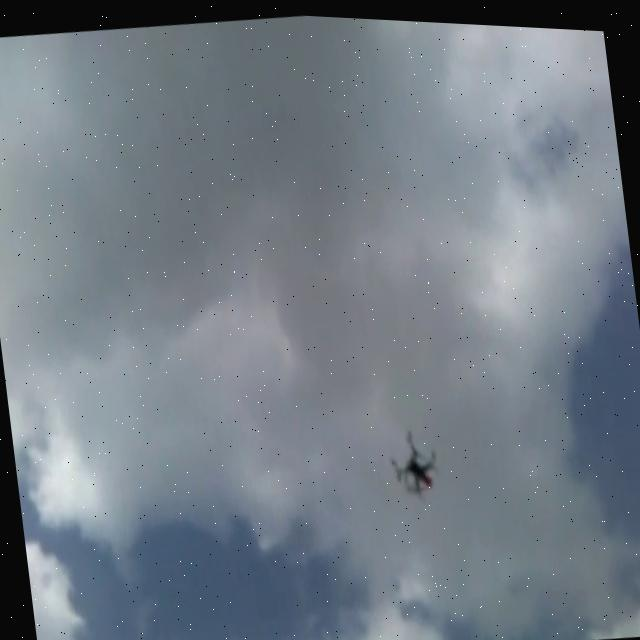drone: (383, 415, 442, 498)
